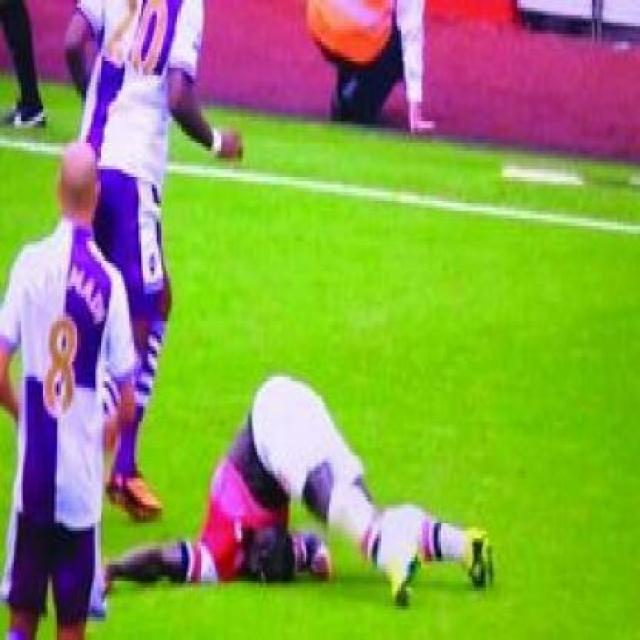fall: (86, 358, 497, 594)
